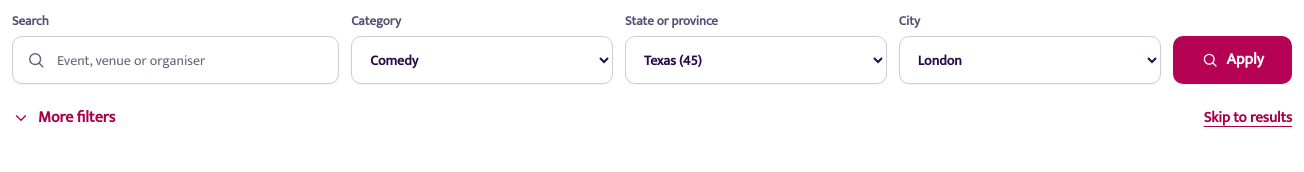
Scenario: EventFilters › clears the city when the state changes, and asks for the new state at once
The width and height of the screenshot is (1304, 172).
Select "Ontario (4)" in the dropdown labelled "State or province". click: x=756, y=60
box: [625, 36, 887, 84]
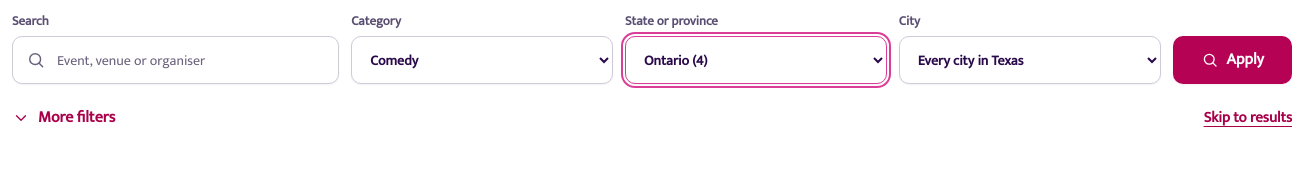
Now the dropdown labelled "City" shows "Every city in Texas", box [899, 36, 1160, 84]
